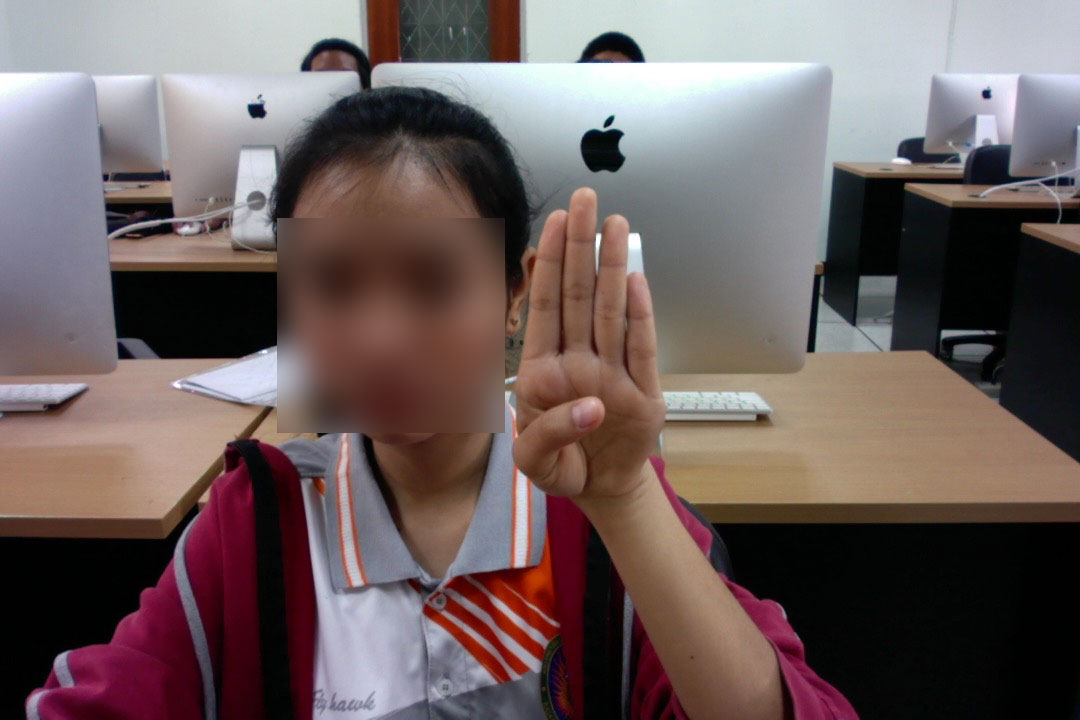bor: (498, 173, 681, 522)
